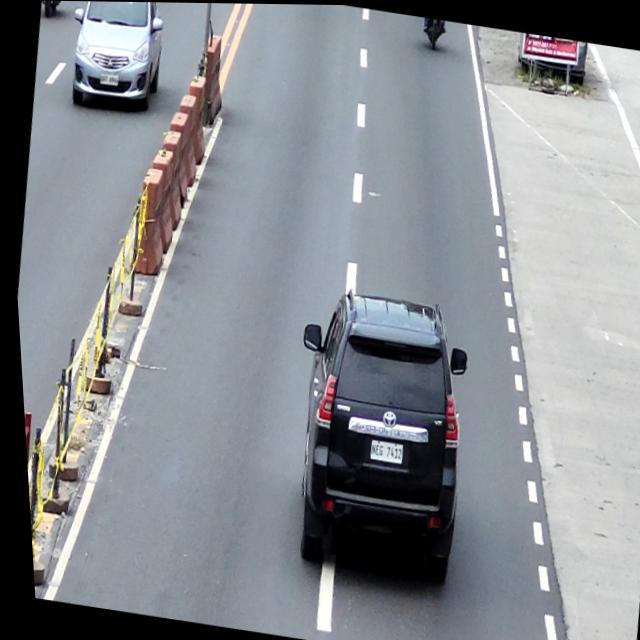Car: (266, 281, 482, 590), (60, 1, 174, 114)
License-Plate: (364, 439, 399, 463), (98, 72, 119, 86)
Motorcycle: (39, 0, 71, 20)
